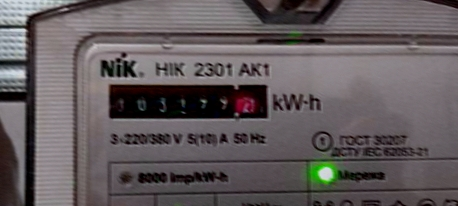0: (110, 93, 125, 114), (133, 92, 146, 112)
1: (175, 89, 186, 109)
3: (155, 94, 166, 114)
6: (239, 100, 250, 117)
9: (216, 93, 228, 112), (196, 91, 206, 110)
screen: (98, 63, 276, 141)
